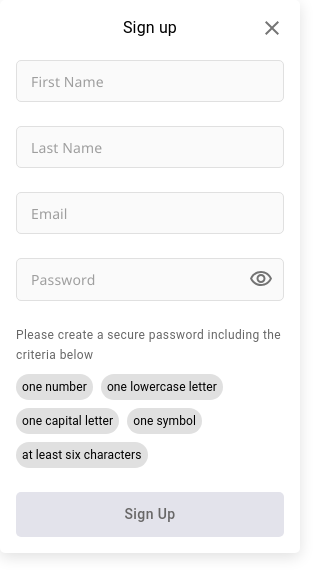
Test: CustomerSignUpComponent › updates RuleTag based on password input
Note: Enter not valid password and check if 3 rules is active
In the password field with placeholder "Password": (125, 279) [17,259,233,300], type "Pass1"
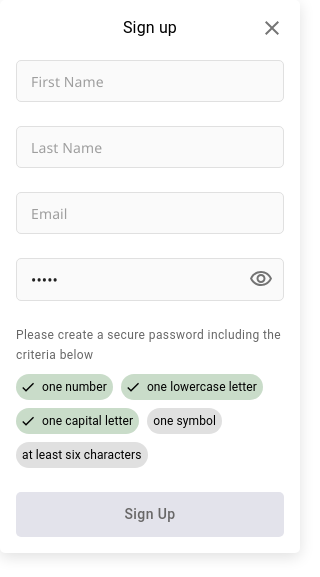
expect the number of icons with test id "password-rule-check" is 3: met, box [16,377,36,397]; [121,377,141,397]; [16,411,36,431]
Note: Check with valid password
In the password field with placeholder "Password": (125, 279) [17,259,233,300], type "Corr3ctP@ssword"
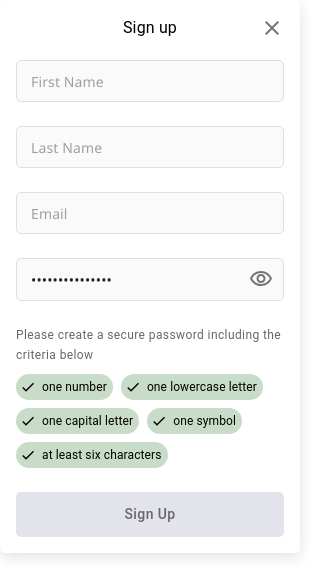
expect the number of icons with test id "password-rule-check" is 5: met, box [16,377,36,397]; [121,377,141,397]; [16,411,36,431]; [147,411,167,431]; [16,445,36,465]
